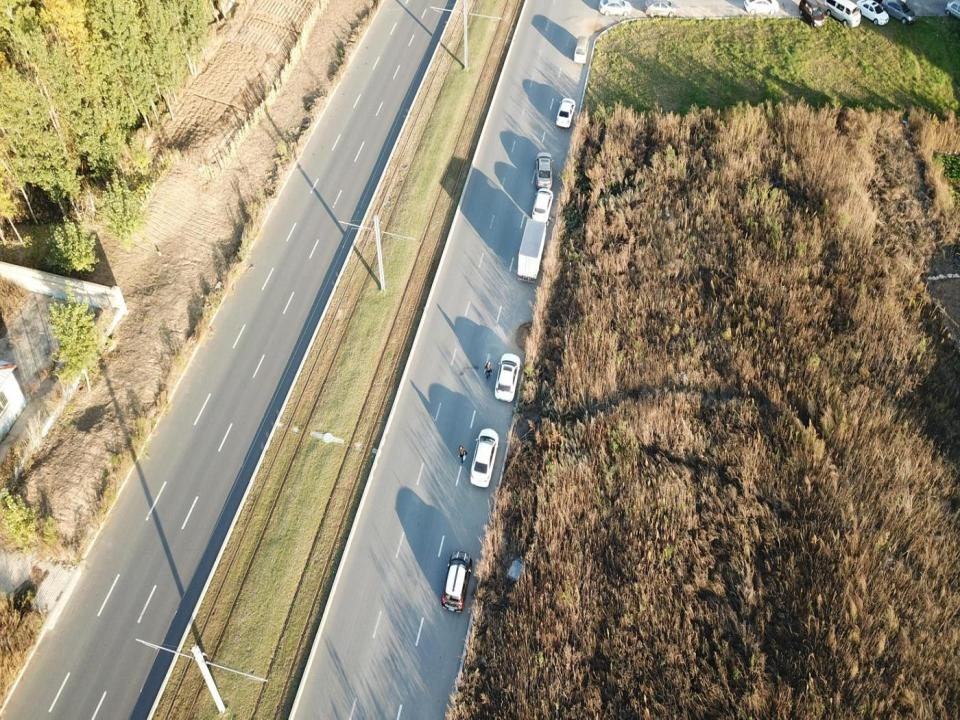car: (442, 551, 472, 613), (469, 429, 500, 487), (496, 355, 520, 403), (881, 0, 913, 27), (531, 186, 552, 226), (797, 0, 827, 27), (857, 0, 888, 26), (536, 152, 554, 189), (556, 98, 575, 130), (598, 0, 631, 17), (644, 0, 677, 17), (745, 0, 777, 17)
truck: (516, 218, 548, 284)
van: (830, 0, 860, 27), (575, 34, 589, 66)
